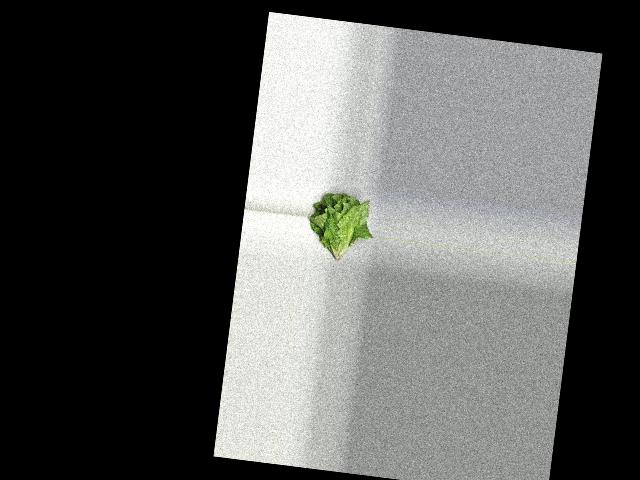lettuce: (304, 189, 377, 265)
